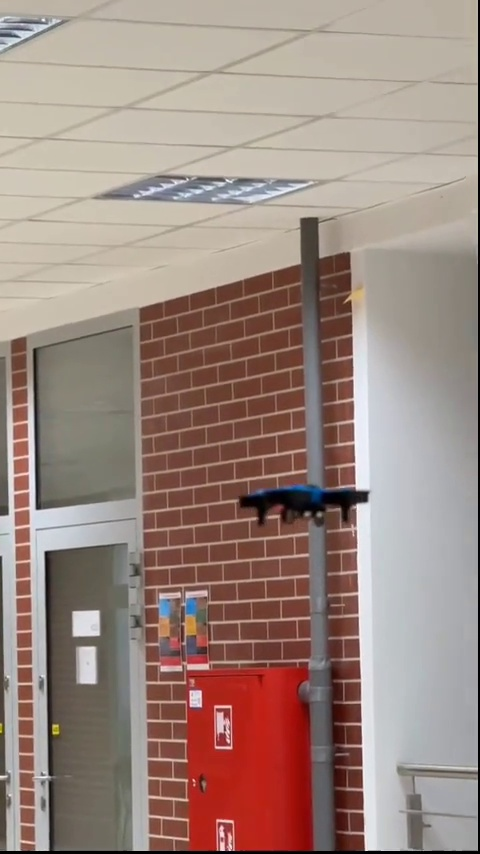drone: (238, 487, 372, 525)
